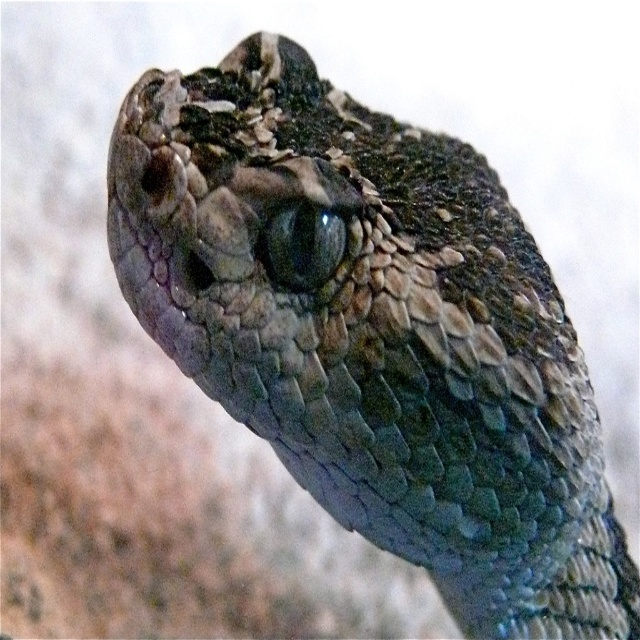Snake: (103, 28, 640, 639)
